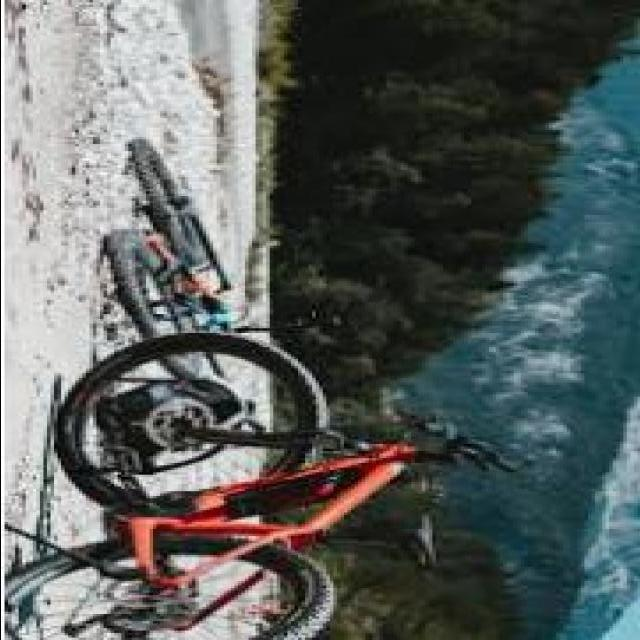bicycle: (50, 334, 513, 640)
